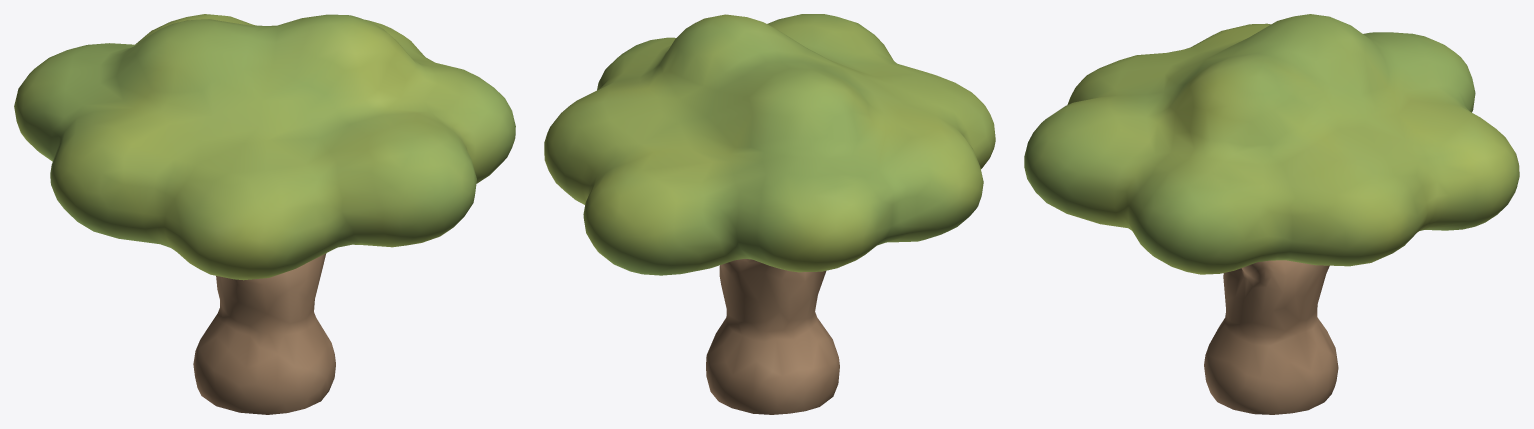
The model's file is tree2.glb.
The picture shows the model from 3 angles, left to right: view 1: azimuth 30°, elevation 25°; view 2: azimuth 150°, elevation 25°; view 3: azimuth 270°, elevation 25°; orthographic projection. The views are drawn at different scales.
Visible parts, largest first — view 1: canopy_wide, body; view 2: canopy_wide, body; view 3: canopy_wide, body.
Boxes of the visible parts, x1,y1,x2,y2 form: canopy_wide: (14,14,515,280); body: (193,253,335,414); canopy_wide: (544,14,995,275); body: (706,259,839,414); canopy_wide: (1024,14,1519,274); body: (1204,260,1338,414).
Size of the model in its own units: 4.93 by 4.26 by 5.28.
